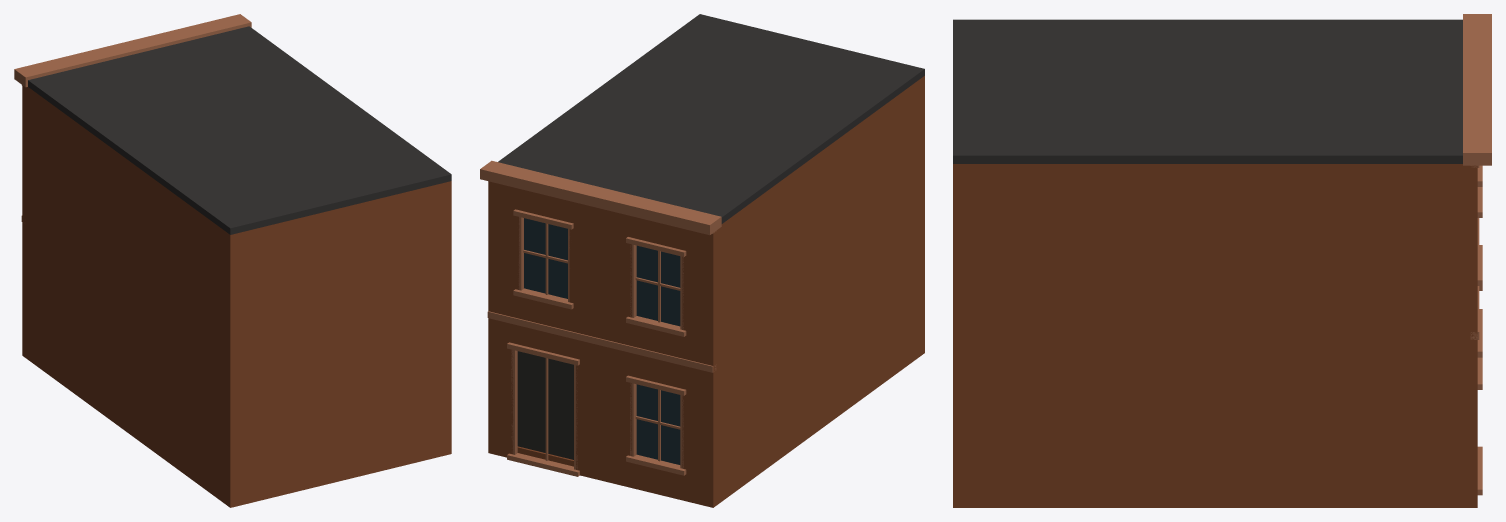
File: residential_2b_2f.obj
The picture shows the model from 3 angles, left to right: view 1: azimuth 30°, elevation 25°; view 2: azimuth 150°, elevation 25°; view 3: azimuth 270°, elevation 25°; orthographic projection. The views are drawn at different scales.
Parts seen in each view (by area): view 1: rear_1, party_wall_2, roof_slab_49, foundation_0, cornice_48, wall_pier_25, wall_pier_4; view 2: party_wall_2, roof_slab_49, door_18, cornice_48, wall_pier_4, wall_pier_25, wall_pier_5, wall_pier_36, wall_pier_26, wall_pier_37, wall_pier_16, wall_pier_15 (+20 smaller); view 3: side_3, roof_slab_49, foundation_0, rear_1, cornice_48, wall_pier_37, wall_pier_16.
Boxes of the visible parts, bbox=[...] form: rear_1: bbox=[225, 181, 451, 507]; party_wall_2: bbox=[25, 87, 239, 507]; roof_slab_49: bbox=[28, 26, 451, 234]; foundation_0: bbox=[25, 348, 451, 507]; cornice_48: bbox=[14, 14, 251, 87]; wall_pier_25: bbox=[22, 85, 27, 222]; wall_pier_4: bbox=[22, 219, 27, 357]; party_wall_2: bbox=[716, 76, 924, 505]; roof_slab_49: bbox=[498, 14, 924, 223]; door_18: bbox=[517, 351, 573, 459]; cornice_48: bbox=[480, 160, 721, 235]; wall_pier_4: bbox=[682, 365, 718, 507]; wall_pier_25: bbox=[682, 228, 718, 368]; wall_pier_5: bbox=[600, 345, 631, 487]; wall_pier_36: bbox=[569, 201, 600, 338]; wall_pier_26: bbox=[600, 209, 631, 345]; wall_pier_37: bbox=[488, 181, 519, 318]; wall_pier_16: bbox=[488, 318, 513, 457]; wall_pier_15: bbox=[576, 339, 600, 480]; side_3: bbox=[953, 164, 1470, 507]; roof_slab_49: bbox=[953, 19, 1462, 163]; foundation_0: bbox=[953, 495, 1470, 507]; rear_1: bbox=[953, 164, 966, 507]; cornice_48: bbox=[1463, 14, 1491, 165]; wall_pier_37: bbox=[1464, 165, 1477, 335]; wall_pier_16: bbox=[1463, 336, 1477, 507].
Size of the model in its own units: 5.72 by 6.84 by 9.37.
